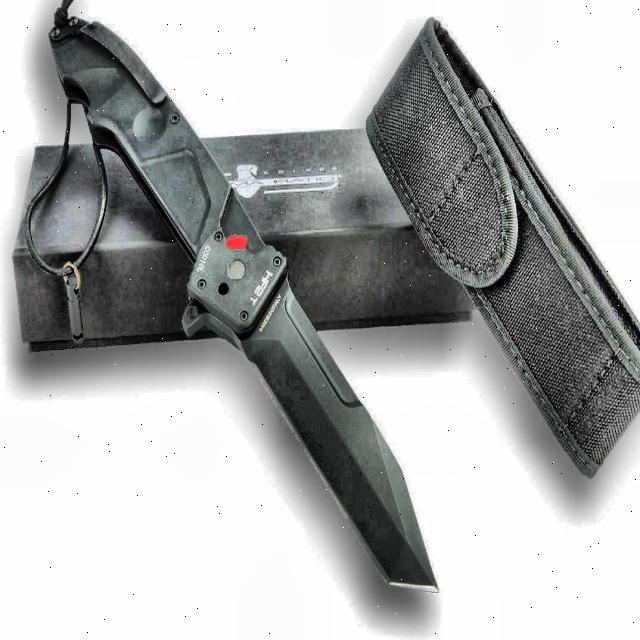knife: (49, 16, 439, 592)
